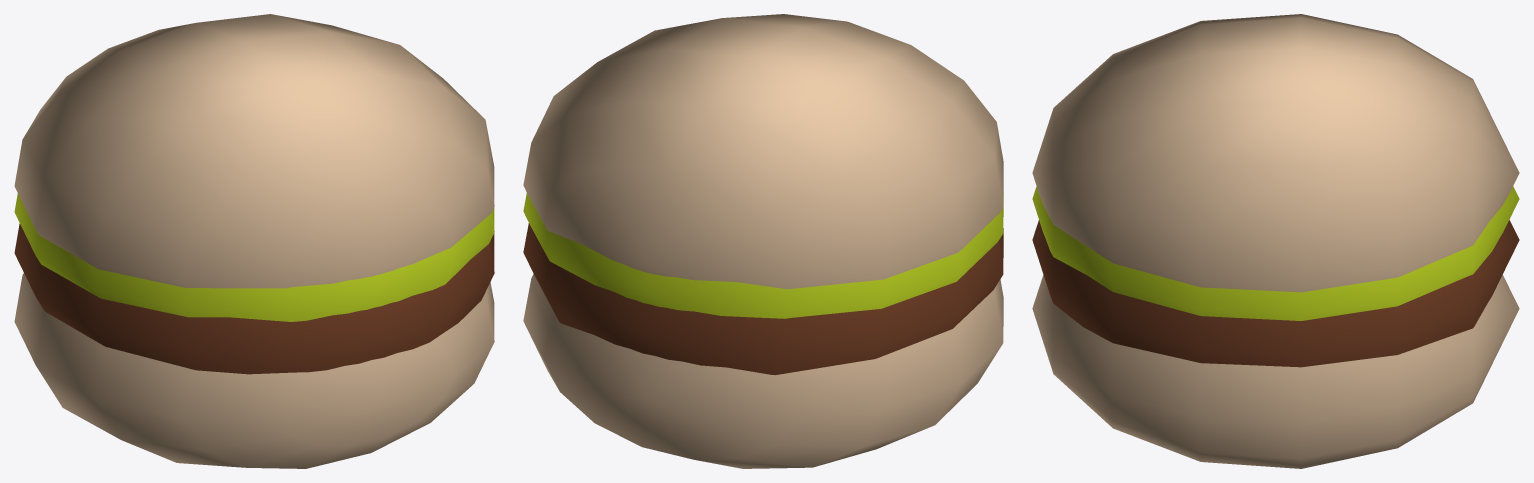
Rendered from ufo4.obj.
The picture shows the model from 3 angles, left to right: view 1: azimuth 30°, elevation 25°; view 2: azimuth 150°, elevation 25°; view 3: azimuth 270°, elevation 25°; orthographic projection.
Visible parts, largest first — view 1: Sphere01, Sphere02, Sphere03, Sphere04; view 2: Sphere01, Sphere02, Sphere03, Sphere04; view 3: Sphere01, Sphere02, Sphere03, Sphere04.
Part boxes in pixels (<box>): Sphere01: <box>14,14,494,288</box>; Sphere02: <box>14,273,494,468</box>; Sphere03: <box>14,223,494,374</box>; Sphere04: <box>14,193,494,321</box>; Sphere01: <box>523,14,1003,289</box>; Sphere02: <box>523,274,1003,468</box>; Sphere03: <box>523,223,1003,375</box>; Sphere04: <box>523,191,1003,318</box>; Sphere01: <box>1032,14,1519,292</box>; Sphere02: <box>1032,275,1519,468</box>; Sphere03: <box>1032,220,1519,367</box>; Sphere04: <box>1032,186,1519,320</box>.
Bounding box in the file's own units: 45.68 × 39.81 × 46.18.
